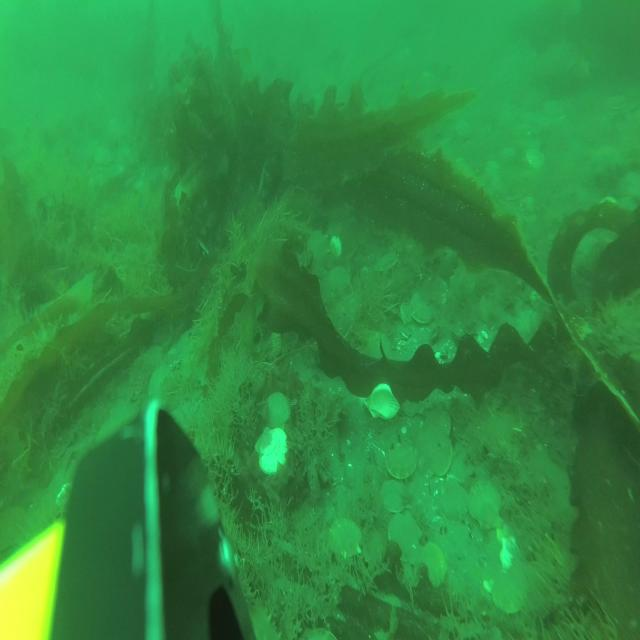holothurian: (246, 594, 282, 640)
scallop: (419, 427, 455, 482), (467, 479, 504, 532), (387, 511, 423, 565), (254, 424, 289, 474), (362, 378, 402, 421), (491, 569, 526, 618), (419, 540, 450, 589), (330, 518, 362, 560), (386, 442, 417, 482), (147, 363, 176, 405), (380, 476, 410, 516), (409, 287, 436, 325), (424, 406, 454, 440), (266, 391, 290, 432), (374, 249, 399, 275), (328, 264, 352, 291), (524, 144, 546, 170), (268, 328, 284, 359), (397, 298, 413, 326)
